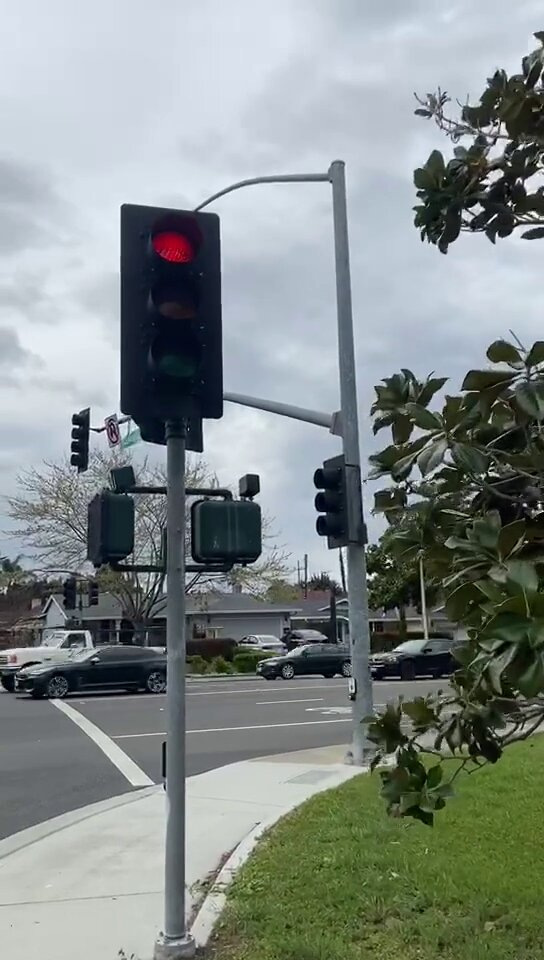red_light: (121, 216, 222, 412)
